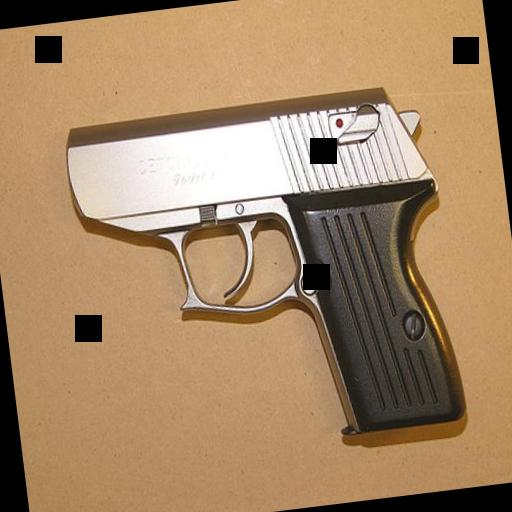Handgun: (62, 79, 466, 465)
